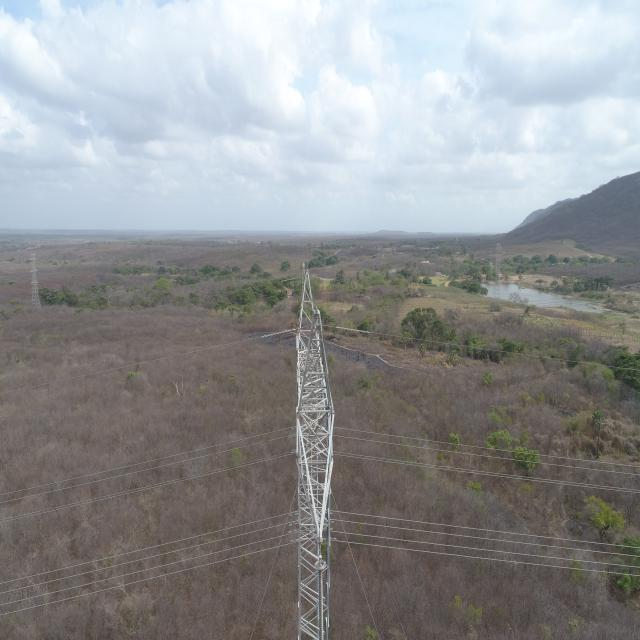杆塔: (287, 255, 349, 640), (22, 232, 44, 314)
正常绝缘子: (314, 560, 328, 639)
